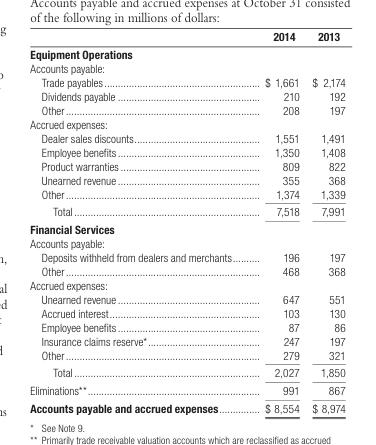table: (29, 29, 344, 414)
table column: (29, 29, 247, 414), (247, 29, 305, 414), (305, 29, 344, 414)
table column header: (29, 29, 344, 45)
table projected row header: (29, 219, 344, 236), (29, 45, 344, 61), (29, 61, 344, 75), (29, 116, 344, 130), (29, 277, 344, 291), (29, 236, 344, 249)
table row: (29, 363, 344, 381), (29, 202, 344, 219), (29, 219, 344, 236), (29, 381, 344, 398), (29, 29, 344, 45), (29, 45, 344, 61), (29, 186, 344, 202), (29, 347, 344, 363), (29, 398, 344, 414), (29, 61, 344, 75), (29, 75, 344, 89), (29, 89, 344, 103), (29, 116, 344, 130), (29, 130, 344, 144), (29, 144, 344, 158), (29, 158, 344, 172), (29, 172, 344, 186), (29, 249, 344, 263), (29, 263, 344, 277), (29, 277, 344, 291), (29, 291, 344, 305), (29, 305, 344, 319), (29, 319, 344, 333), (29, 333, 344, 347), (29, 103, 344, 116), (29, 236, 344, 249)
